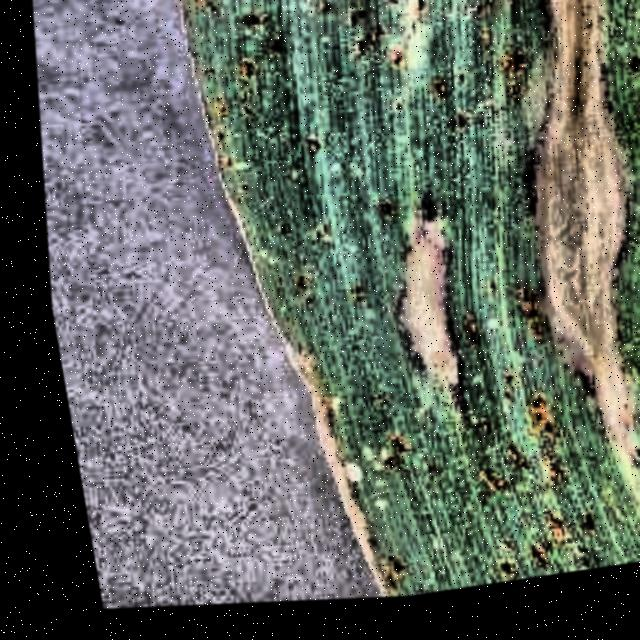blight: (116, 0, 640, 623)
